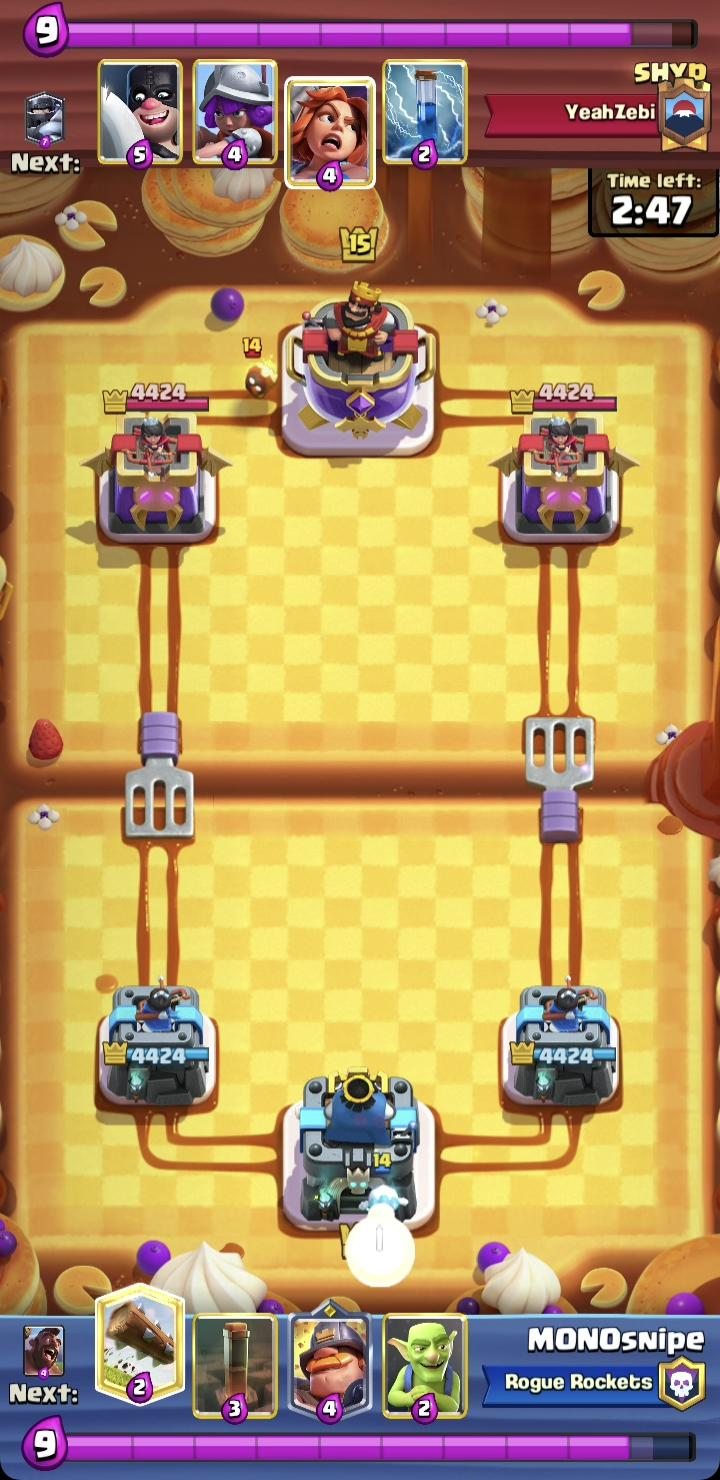ally_ice_spirit: (356, 1154, 409, 1228)
enemy_fire_spirit: (241, 336, 276, 406)
